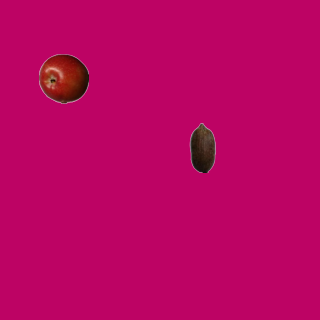Apple Braeburn: (38, 53, 88, 103)
Nut Pecan: (177, 122, 227, 172)
